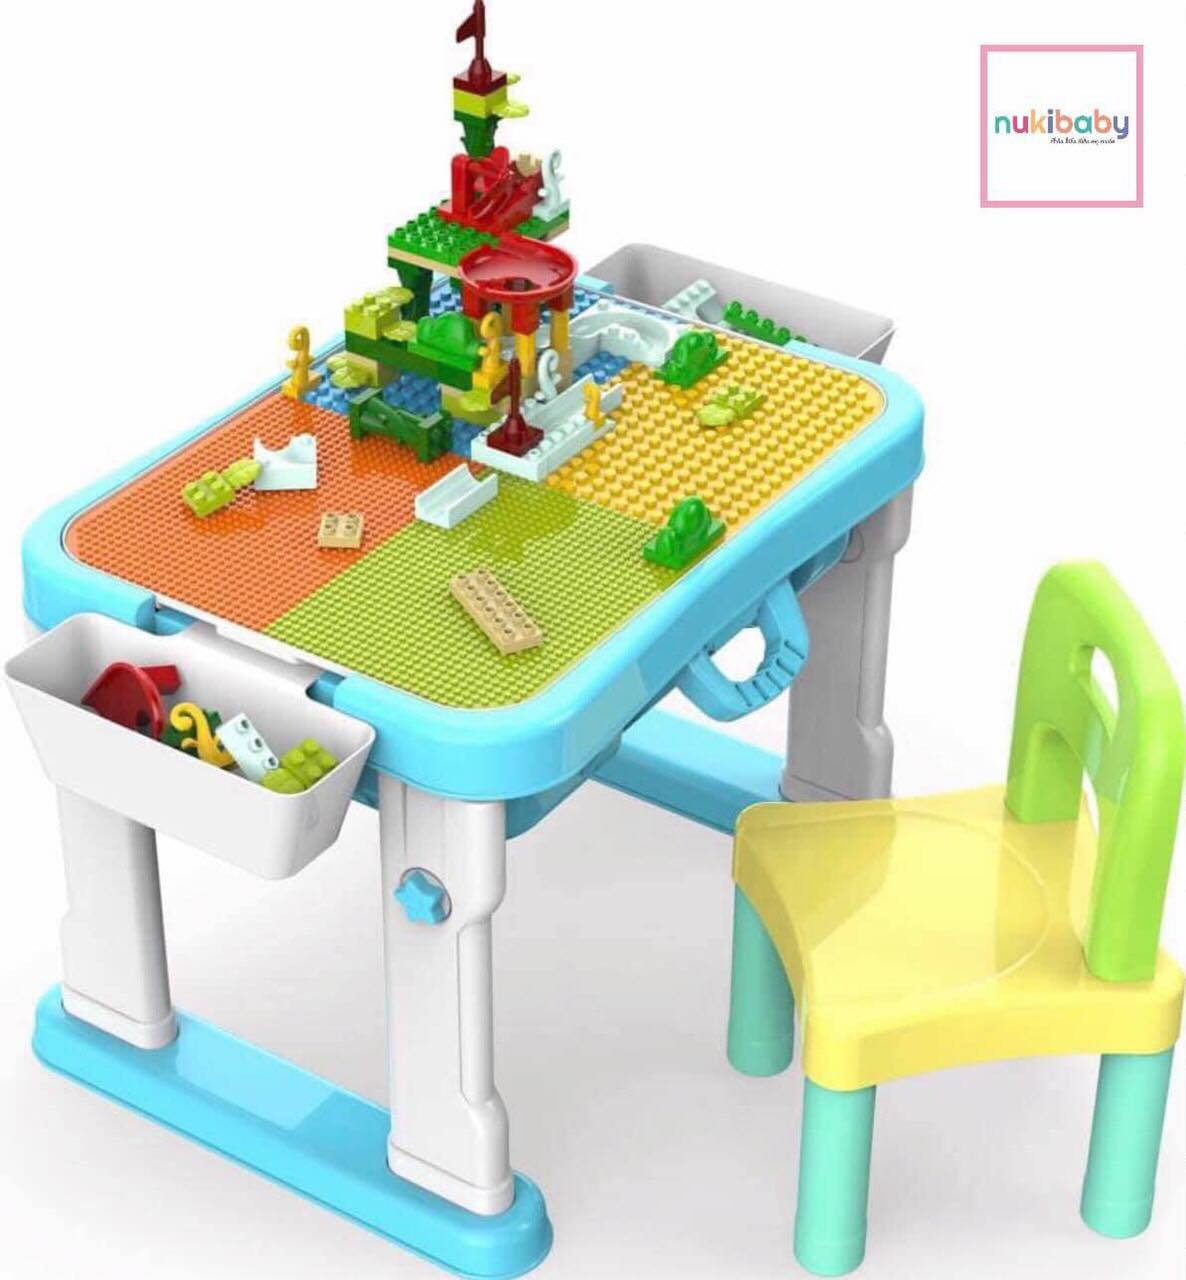bantreem: (0, 0, 925, 1280)
ghedualung_treem: (733, 566, 1186, 1277)
